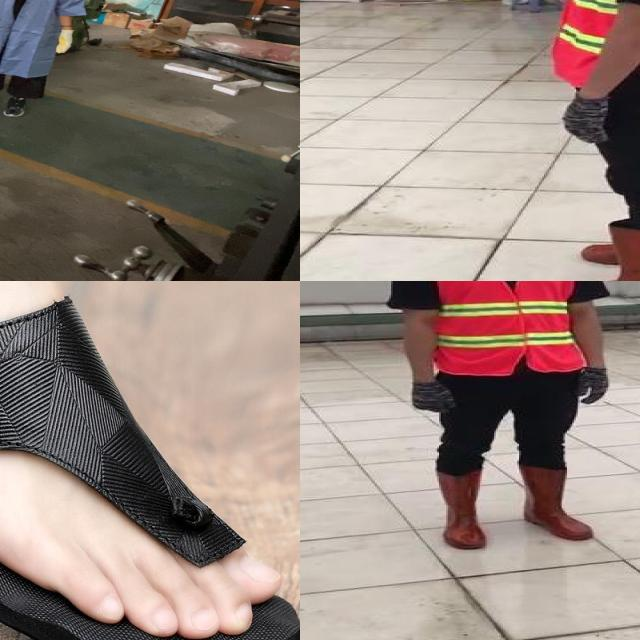Sandals: (0, 281, 300, 640)
boots: (517, 463, 592, 540), (553, 223, 640, 281), (432, 465, 492, 548)
hand_glove: (542, 98, 615, 144), (405, 379, 455, 414), (578, 366, 620, 407), (52, 28, 75, 56)
person: (384, 281, 617, 552), (531, 0, 640, 281), (0, 0, 88, 121)
shoes: (1, 92, 31, 120)
vest: (430, 281, 586, 371), (551, 0, 640, 97)
